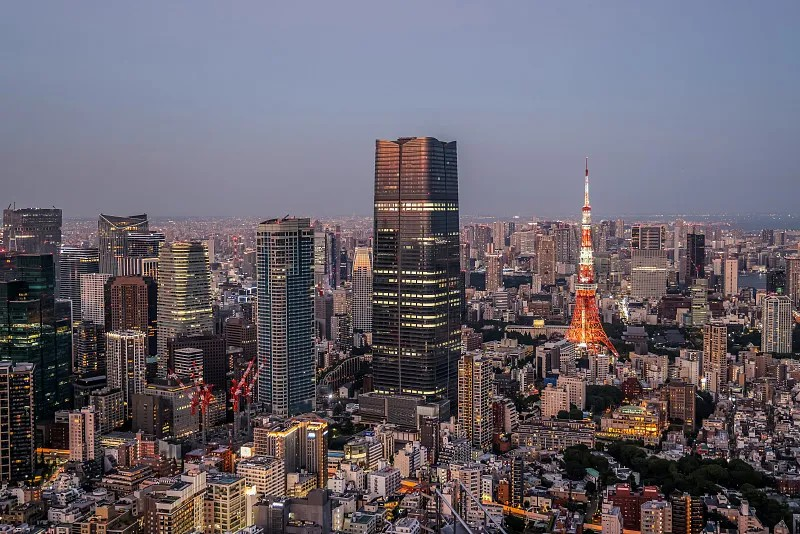Tokyo: (563, 155, 617, 358)
